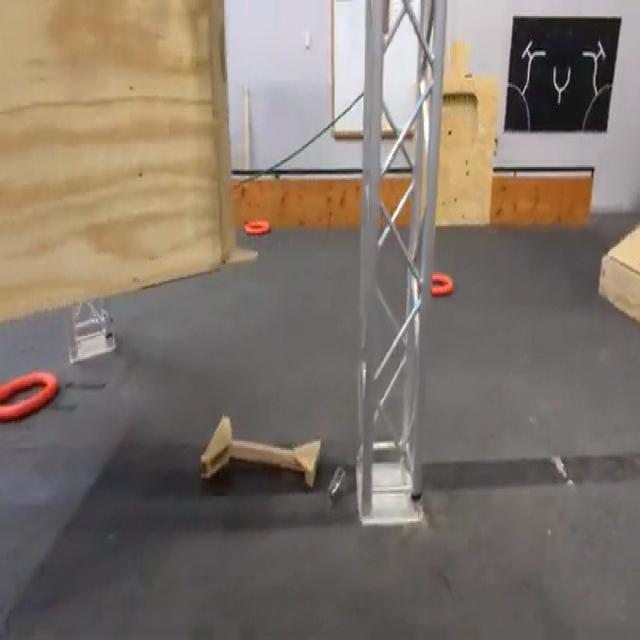note: (0, 371, 57, 426), (430, 272, 454, 298), (242, 218, 271, 237)
